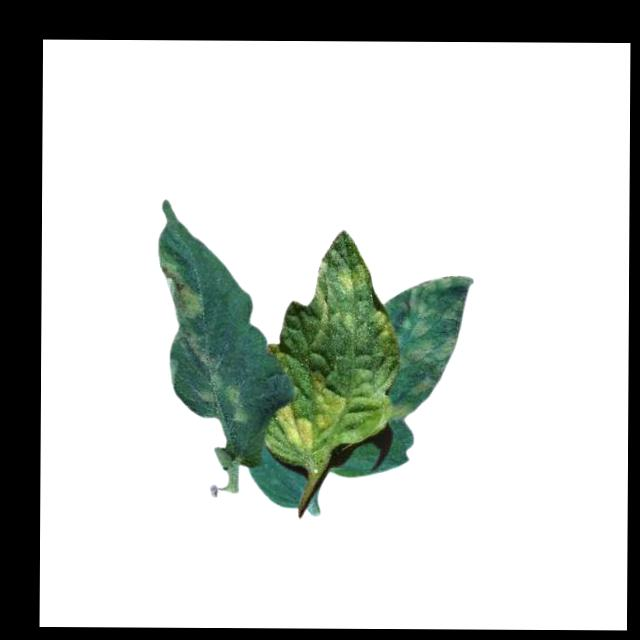Leaf_Mold: (388, 272, 471, 419), (156, 255, 204, 324), (265, 399, 312, 456), (314, 366, 347, 430), (221, 382, 250, 427), (338, 261, 366, 292)
